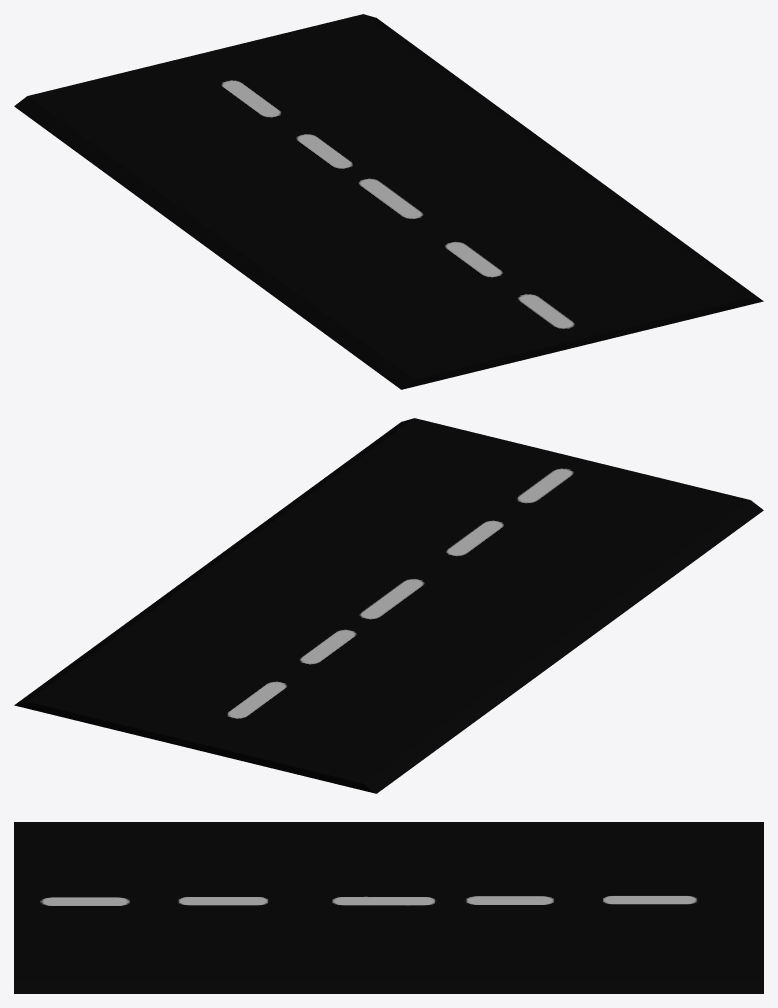
Rendered from street.glb.
3 views of the same model, one above another, from view 1: azimuth 30°, elevation 25°; view 2: azimuth 150°, elevation 25°; view 3: azimuth 270°, elevation 25° (orthographic). The views are drawn at different scales.
Parts seen in each view (by area): view 1: Cube; view 2: Cube; view 3: Cube.
Boxes of the visible parts, <box> form: Cube: <box>14,14,763,389</box>; Cube: <box>14,418,763,793</box>; Cube: <box>14,822,763,993</box>.
Size of the model in its own units: 5.44 by 0.1007 by 10.07.
Materials: 1 (1 with a texture image).
